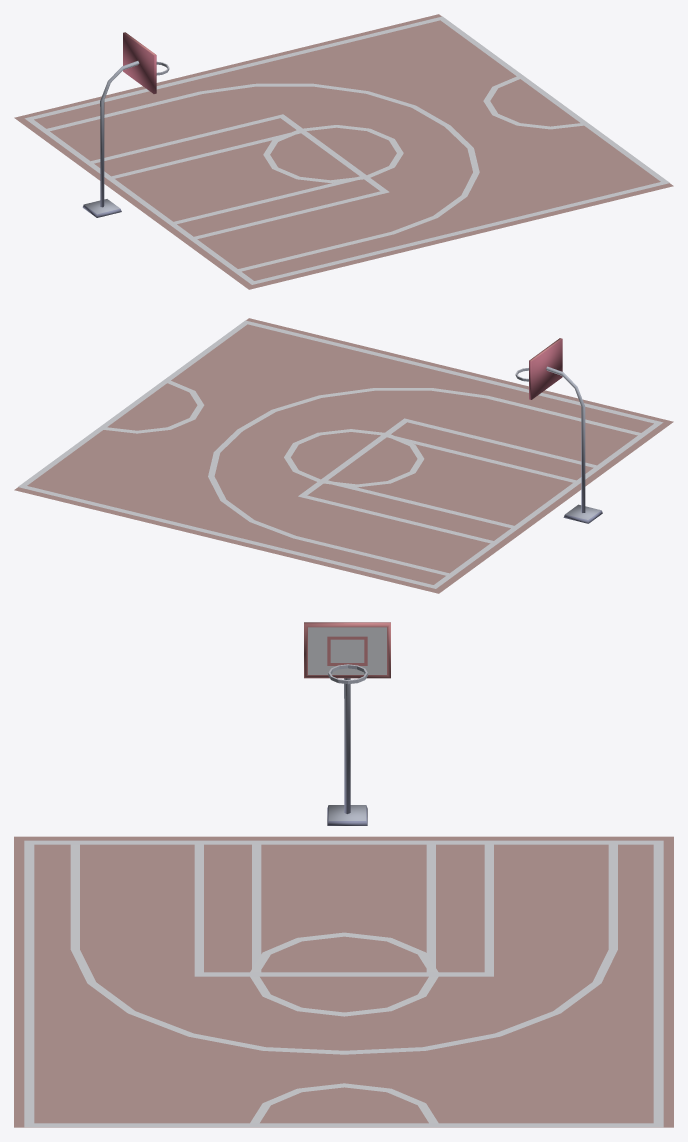
Rendered from basketball.glb.
3 renders of one model, top to bottom at view 1: azimuth 30°, elevation 25°; view 2: azimuth 150°, elevation 25°; view 3: azimuth 270°, elevation 25°, orthographic. The views are drawn at different scales.
Visible parts, largest first — view 1: basketball; view 2: basketball; view 3: basketball.
Part boxes in pixels (x1,y1,x2,y2): basketball: [14, 14, 673, 289]; basketball: [14, 318, 673, 593]; basketball: [14, 622, 673, 1127].
Bounding box in the file's own units: 3.57 × 1.15 × 3.12.
